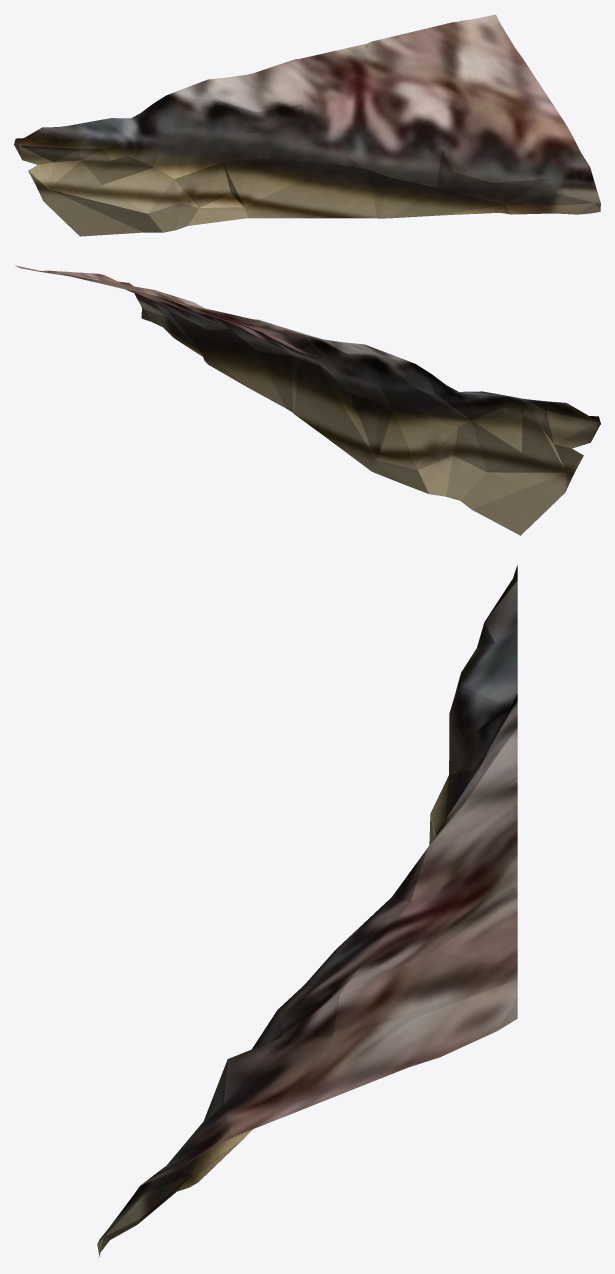
3 views of the same model, one above another, from view 1: azimuth 30°, elevation 25°; view 2: azimuth 150°, elevation 25°; view 3: azimuth 270°, elevation 25° (orthographic). The views are drawn at different scales.
Size of the model in its own units: 1.61 by 0.4026 by 0.6098.
Materials: 1 (1 with a texture image).
